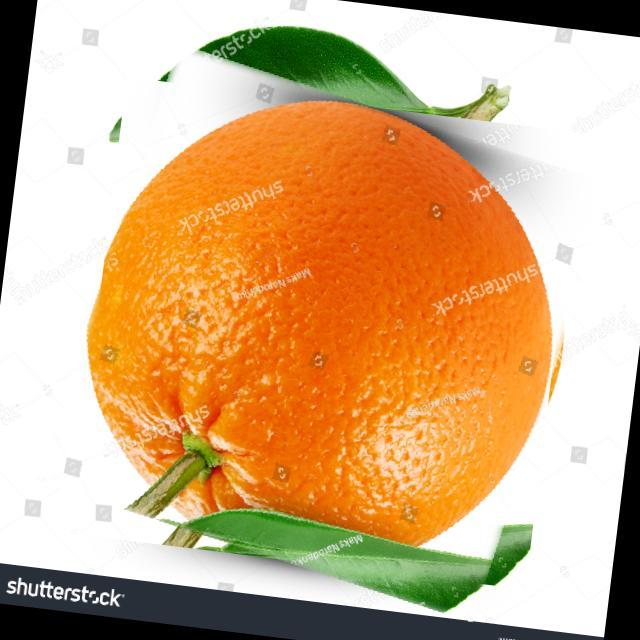Orange: (86, 98, 557, 549)
